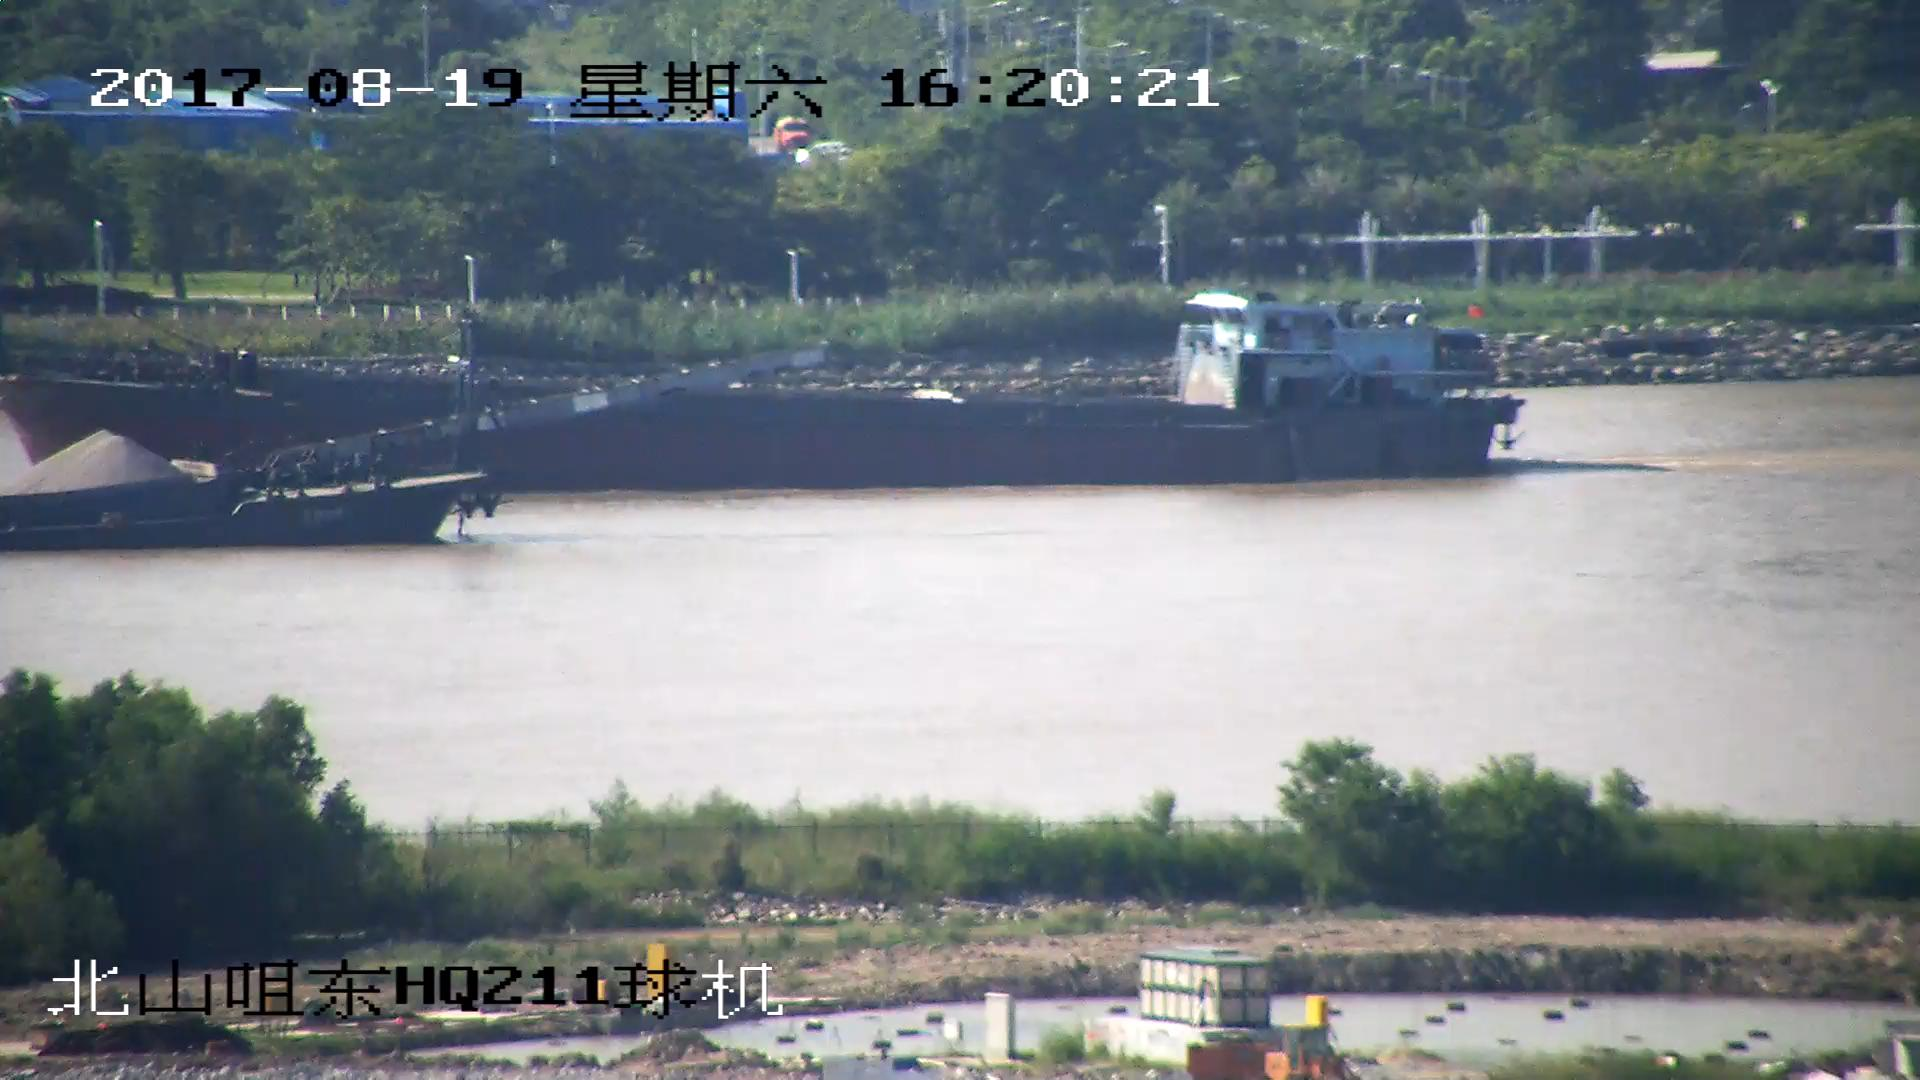bulk cargo carrier: (1, 288, 1522, 477)
ore carrier: (1, 328, 817, 552)
